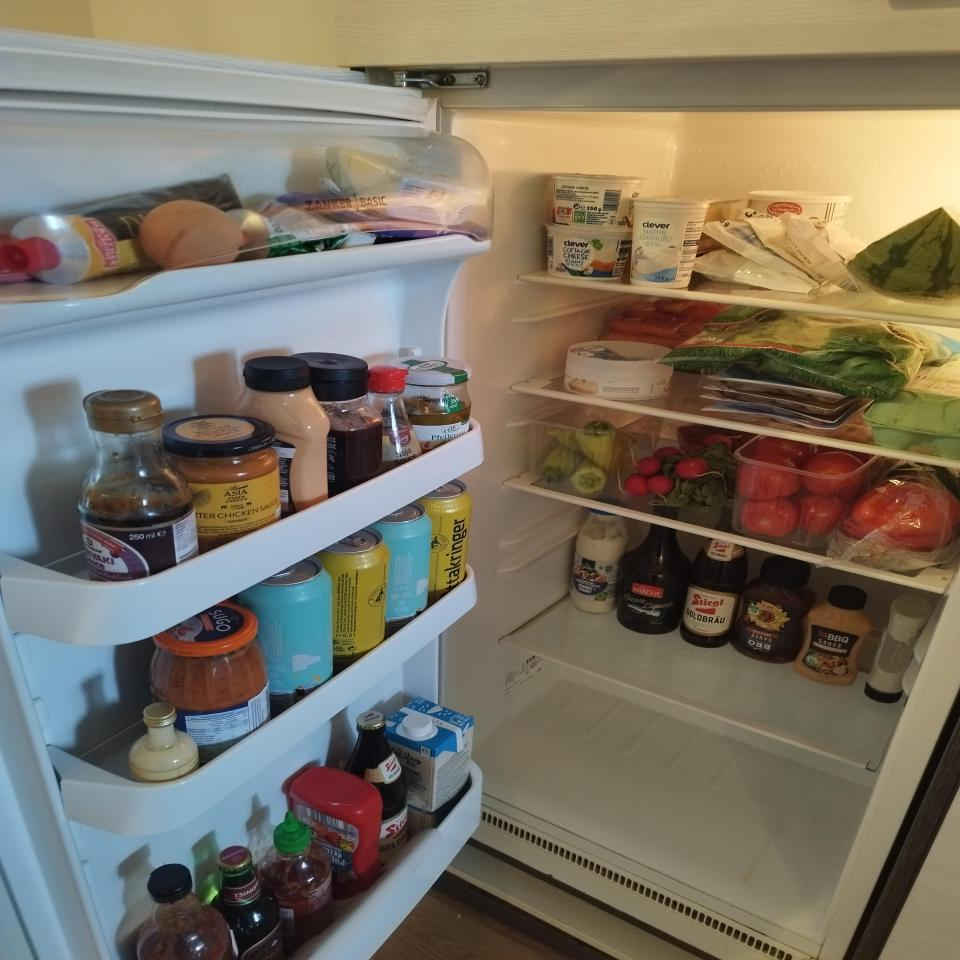Huevos: (862, 354, 960, 459), (142, 200, 242, 266)
Tomate: (803, 453, 866, 495), (738, 457, 800, 499), (741, 499, 799, 537), (802, 496, 843, 535), (755, 436, 818, 461)
Yogur: (633, 198, 707, 288)
Zanahoria: (600, 298, 727, 348)
